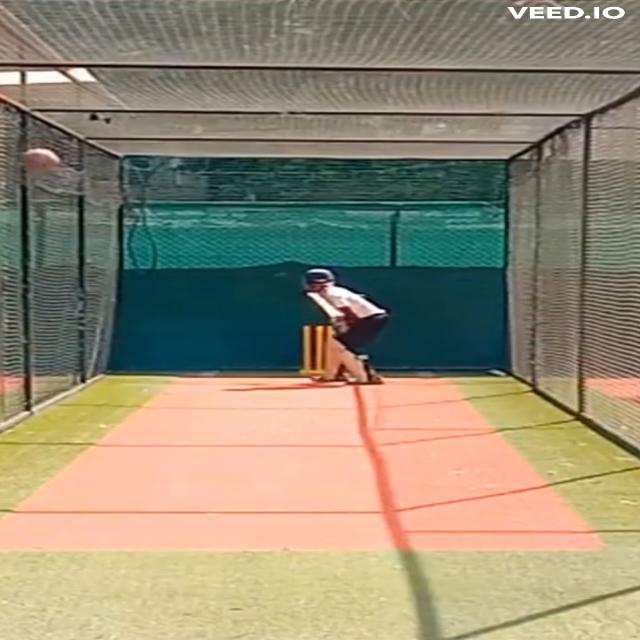ball: (13, 145, 68, 175)
stump: (296, 323, 330, 377)
